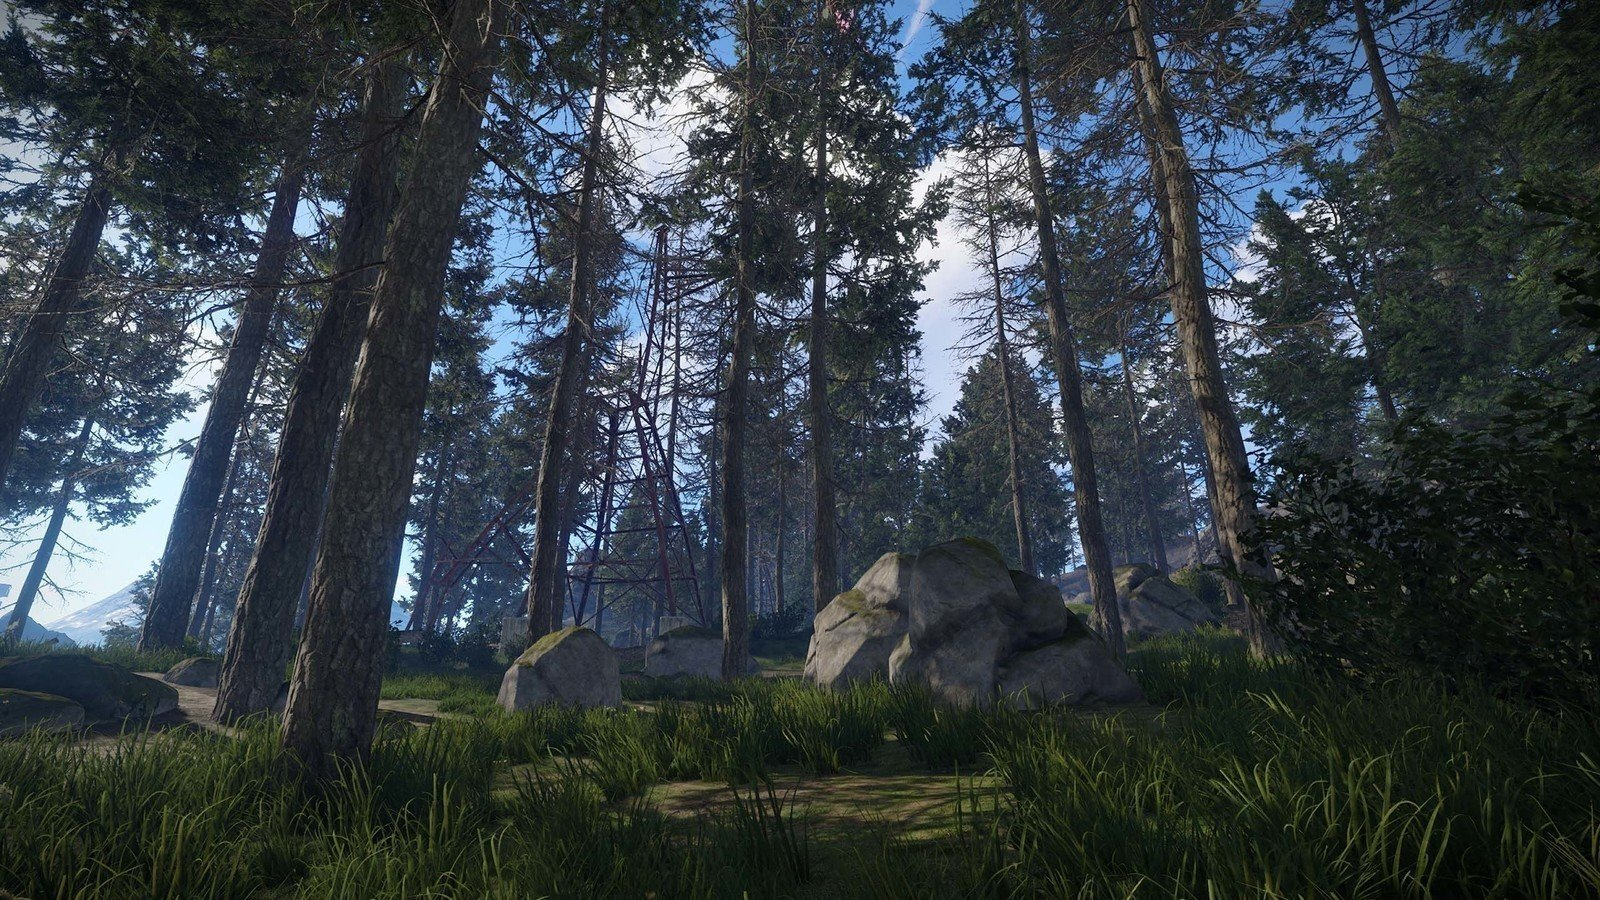tree: (244, 4, 521, 786), (1, 5, 229, 681), (1089, 2, 1304, 642), (1335, 2, 1505, 619), (501, 1, 645, 662), (991, 5, 1133, 657), (792, 4, 884, 663), (959, 64, 1052, 621), (710, 4, 749, 723)
